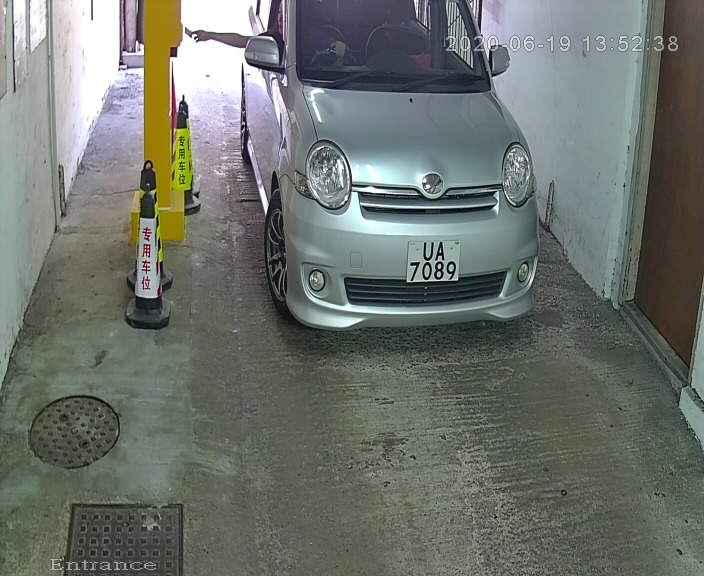privatecar: (235, 3, 548, 348)
